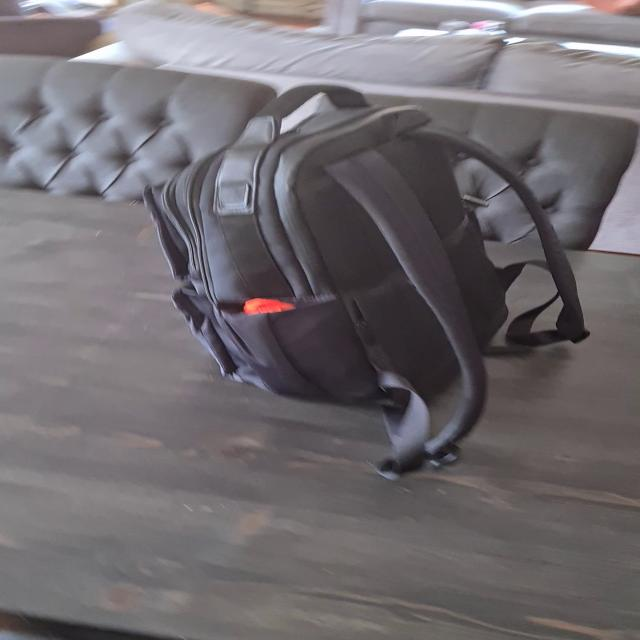backpack: (143, 82, 549, 418)
